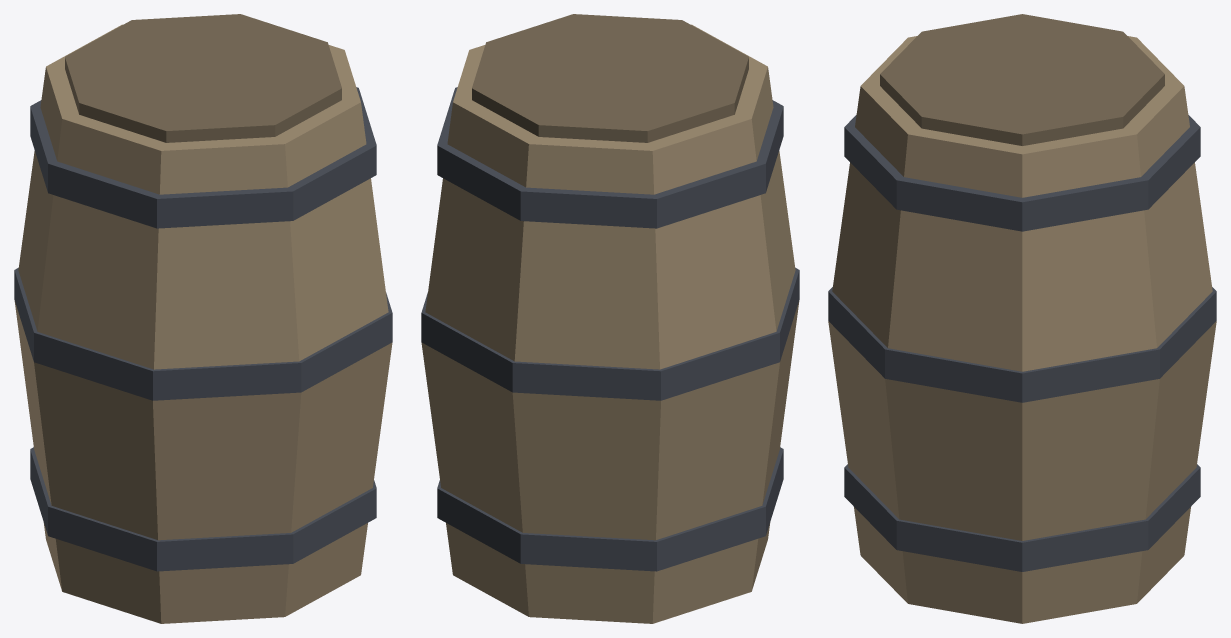
The model's file is barrel.glb.
The picture shows the model from 3 angles, left to right: view 1: azimuth 30°, elevation 25°; view 2: azimuth 150°, elevation 25°; view 3: azimuth 270°, elevation 25°; orthographic projection.
Parts seen in each view (by area): view 1: driftwood_d20, slate_d30, driftwood_d40; view 2: driftwood_d20, slate_d30, driftwood_d40; view 3: driftwood_d20, slate_d30, driftwood_d40.
Boxes of the visible parts, left/top/right/bottom form: driftwood_d20: left=14, top=24, right=392, bottom=623; slate_d30: left=14, top=87, right=392, bottom=571; driftwood_d40: left=65, top=14, right=341, bottom=142; driftwood_d20: left=421, top=24, right=799, bottom=623; slate_d30: left=421, top=87, right=799, bottom=571; driftwood_d40: left=472, top=14, right=748, bottom=142; driftwood_d20: left=828, top=36, right=1216, bottom=623; slate_d30: left=828, top=115, right=1216, bottom=571; driftwood_d40: left=880, top=14, right=1164, bottom=145.
Size of the model in its own units: 0.6 by 0.82 by 0.6.
